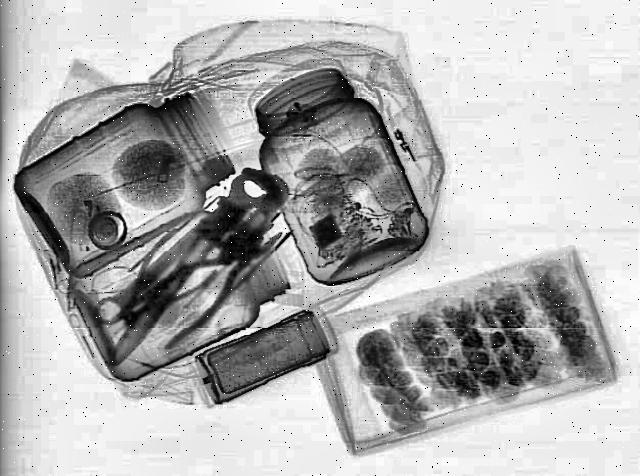Pliers: (128, 215, 300, 351)
Wrench: (76, 165, 284, 332)
